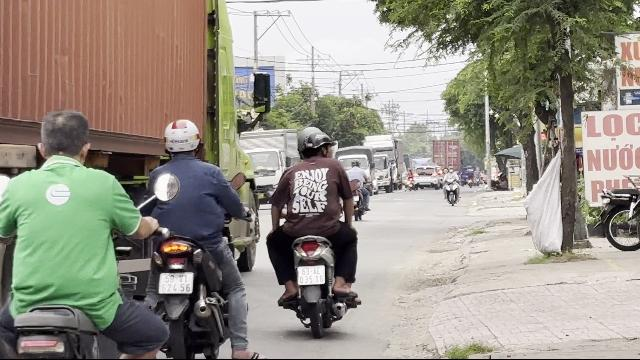helmet: (162, 118, 202, 158), (300, 130, 336, 162)
licenseplate: (158, 272, 192, 294), (298, 266, 324, 284)
motorcyclist: (0, 106, 174, 356), (138, 113, 256, 355), (264, 125, 364, 335)
nohelmet: (32, 109, 92, 167)
